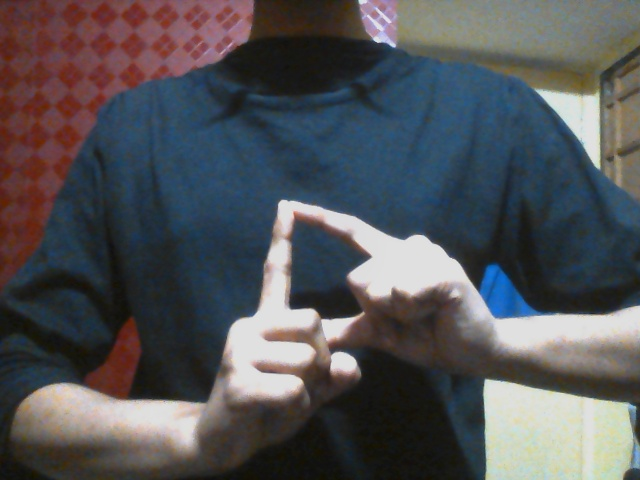D: (195, 197, 458, 468)
